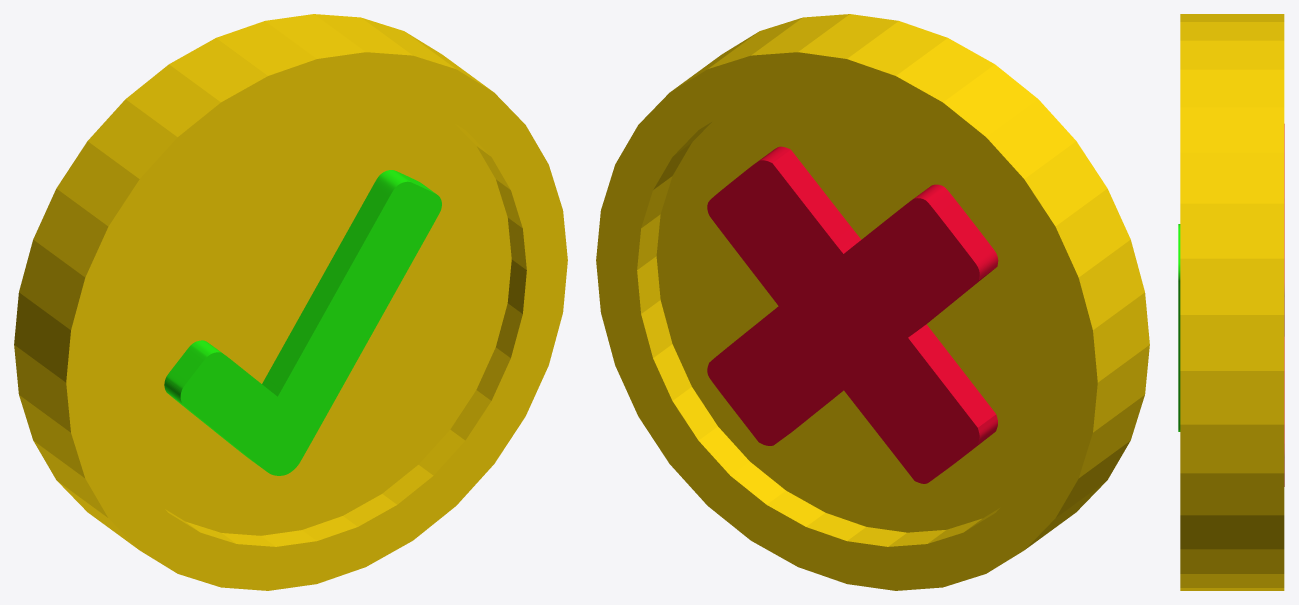
File: Coin Example.fbx
The picture shows the model from 3 angles, left to right: view 1: azimuth 30°, elevation 25°; view 2: azimuth 150°, elevation 25°; view 3: azimuth 270°, elevation 25°; orthographic projection.
Visible parts, largest first — view 1: Cylinder.003, Curve; view 2: Cylinder.003, Wrong; view 3: Cylinder.003, Curve, Wrong.
Part boxes in pixels (left/top/right/bottom): Cylinder.003: left=14, top=14, right=567, bottom=590; Curve: left=164, top=170, right=441, bottom=475; Cylinder.003: left=596, top=14, right=1149, bottom=590; Wrong: left=707, top=146, right=998, bottom=483; Cylinder.003: left=1180, top=14, right=1284, bottom=590; Curve: left=1178, top=224, right=1180, bottom=431; Wrong: left=1284, top=124, right=1284, bottom=486.
Bounding box in the file's own units: 200 × 200 × 36.92.
